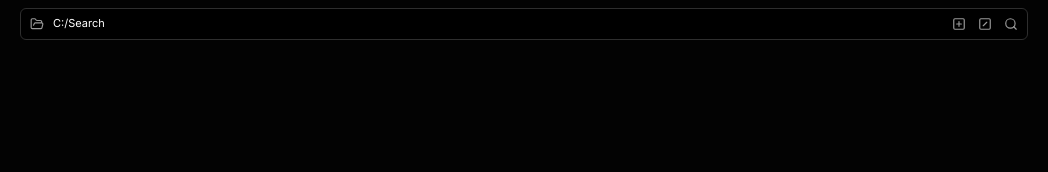
it: shows and filters partial results while a later folder is still loading
The width and height of the screenshot is (1048, 172).
Click the button named "explorer.searchFiles".
click(1011, 24)  # box [999,12,1023,36]
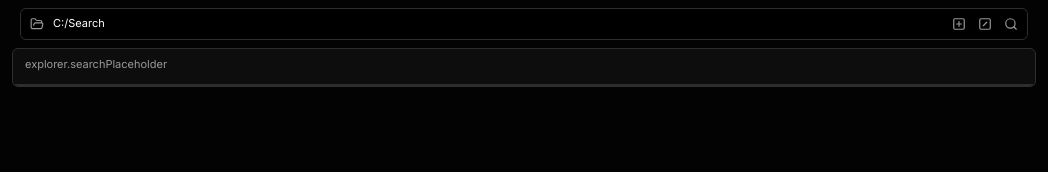
Type ".md" into the search field.
click(524, 64); type(".md")  # box [13,49,1035,80]
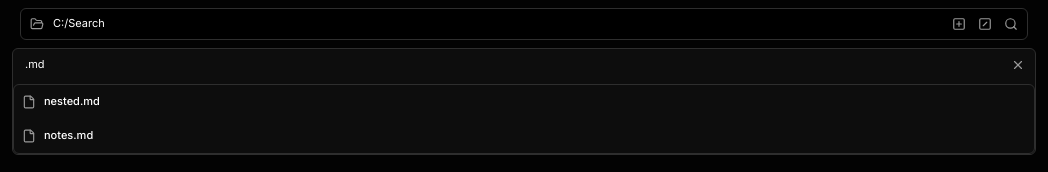
Result: the option "notes.md" is shown at [14,119,1034,153]
Result: the option "nested.md" is shown at [14,85,1034,119]
Replace the text in the search field with "nested" at (524, 64), box [13,49,1035,80]
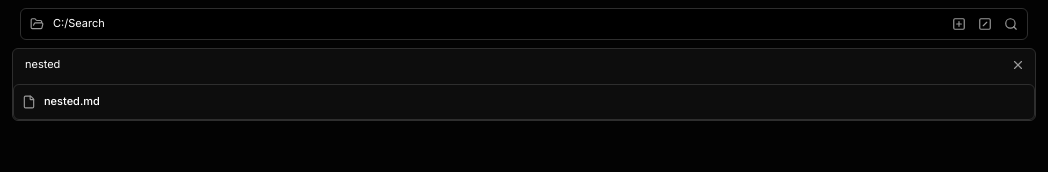
Result: the option "nested.md" is shown at [14,85,1034,119]
Result: the option "notes.md" is gone
